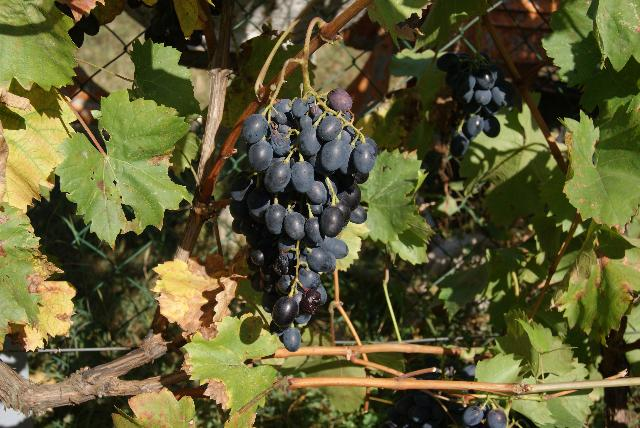grapes: (230, 98, 378, 351), (436, 52, 515, 156)
